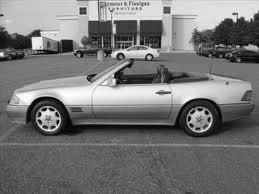car: (6, 55, 257, 143)
